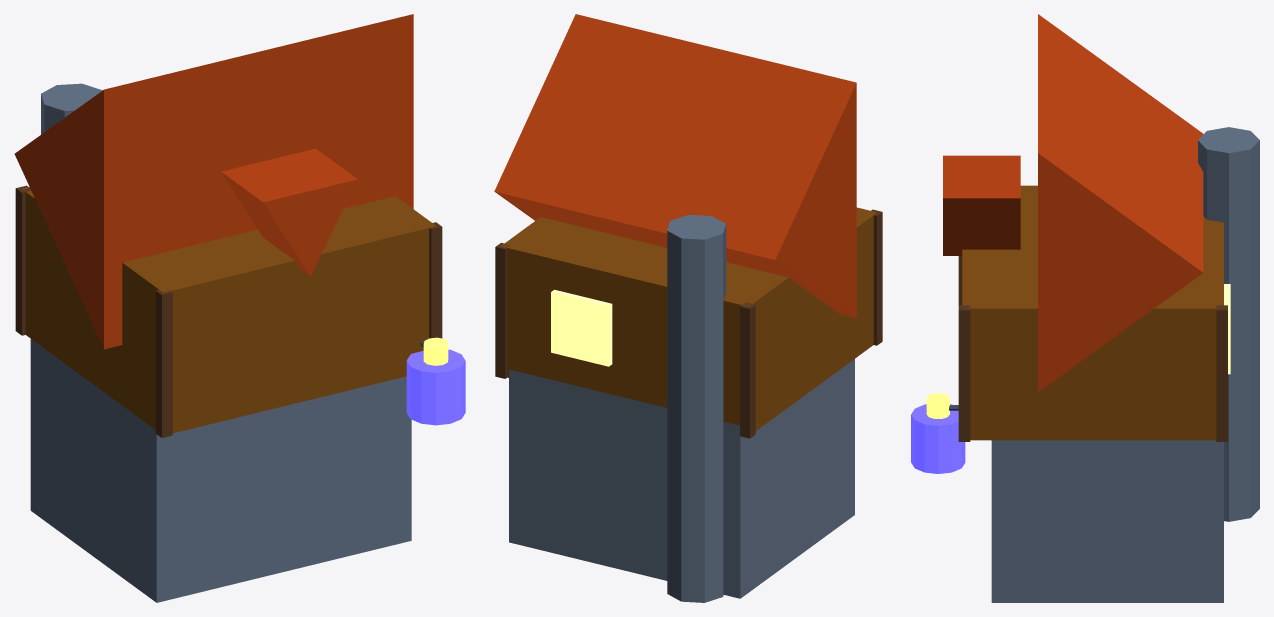
Rendered from taller_taa.glb.
The picture shows the model from 3 angles, left to right: view 1: azimuth 30°, elevation 25°; view 2: azimuth 150°, elevation 25°; view 3: azimuth 270°, elevation 25°; orthographic projection. The views are drawn at different scales.
Parts seen in each view (by area): view 1: Cube, Cylinder, Cube.001, Cylinder.001, Cylinder.003, Cube.002, Cylinder.005, Cube.003, Cube.004, Cylinder.004; view 2: Cylinder, Cube, Cube.001, Cylinder.005, Cube.006, Cube.003, Cube.005, Cube.002; view 3: Cylinder, Cube, Cube.001, Cylinder.005, Cylinder.001, Cylinder.003, Cube.004, Cube.005, Cylinder.004.
Part boxes in pixels (box(x1,y1,x2,y2)): Cube: box(30, 339, 411, 602); Cylinder: box(14, 14, 413, 349); Cube.001: box(22, 187, 435, 433); Cylinder.001: box(221, 148, 357, 276); Cylinder.003: box(406, 349, 465, 425); Cube.002: box(155, 290, 172, 437); Cylinder.005: box(41, 83, 102, 134); Cube.003: box(15, 185, 30, 335); Cube.004: box(429, 222, 442, 338); Cylinder.004: box(423, 337, 448, 365); Cylinder: box(494, 14, 856, 318); Cube: box(509, 359, 854, 598); Cube.001: box(501, 207, 875, 430); Cylinder.005: box(667, 214, 726, 602); Cube.006: box(551, 289, 612, 366); Cube.003: box(740, 302, 755, 438); Cube.005: box(495, 242, 510, 378); Cube.002: box(871, 209, 882, 345); Cylinder: box(1038, 14, 1203, 392); Cube: box(991, 440, 1223, 602); Cube.001: box(962, 185, 1223, 440); Cylinder.005: box(1198, 127, 1259, 521); Cylinder.001: box(943, 155, 1020, 255); Cylinder.003: box(911, 404, 965, 473); Cube.004: box(958, 305, 970, 441); Cube.005: box(1216, 305, 1227, 441); Cylinder.004: box(926, 393, 949, 418).
Size of the model in its own units: 3.4 by 5.26 by 3.6.
